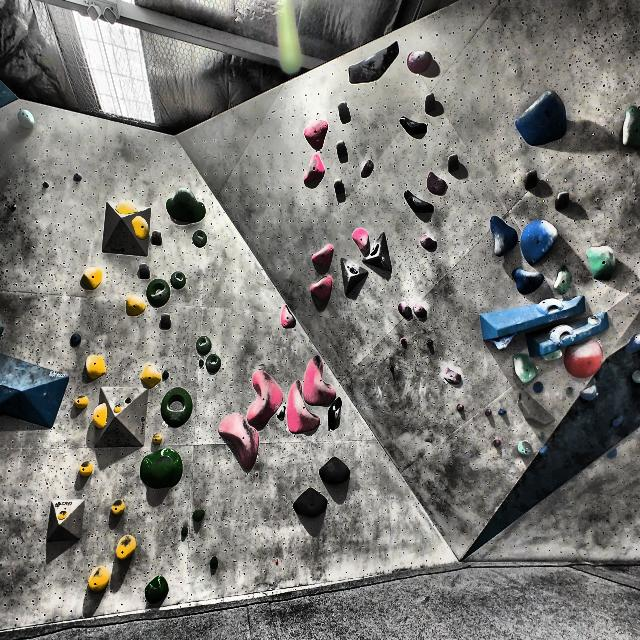Hold: (513, 85, 567, 146), (345, 41, 402, 87), (219, 410, 258, 472), (247, 372, 284, 424), (562, 339, 610, 379), (286, 381, 322, 434), (139, 448, 183, 491), (520, 220, 560, 267), (304, 355, 336, 408), (488, 209, 517, 263), (290, 486, 331, 520), (159, 388, 193, 427), (167, 188, 205, 221), (588, 242, 617, 284), (622, 95, 640, 160), (314, 459, 354, 483), (303, 115, 329, 149), (511, 268, 542, 296), (401, 189, 433, 215), (513, 351, 538, 383), (303, 153, 324, 191), (86, 564, 111, 594), (113, 532, 139, 560), (400, 113, 428, 138), (80, 264, 105, 292), (148, 278, 170, 309), (424, 170, 449, 195), (145, 578, 169, 604), (490, 329, 517, 352), (114, 196, 143, 217), (350, 225, 371, 253), (327, 400, 347, 429), (308, 276, 332, 300), (83, 354, 106, 379), (311, 244, 334, 268), (554, 268, 573, 297), (141, 363, 163, 388), (408, 51, 434, 72), (532, 301, 566, 316), (125, 295, 148, 317), (92, 402, 110, 429), (443, 366, 463, 390), (14, 108, 38, 128), (545, 325, 570, 342), (192, 229, 211, 249), (206, 356, 224, 376), (416, 234, 437, 251), (172, 271, 189, 292), (412, 299, 428, 321), (282, 305, 298, 327), (134, 216, 150, 238), (78, 460, 95, 480), (360, 157, 374, 181), (516, 438, 534, 455), (109, 498, 125, 517), (398, 299, 412, 320), (195, 337, 213, 353), (192, 508, 208, 525), (73, 394, 89, 411), (528, 381, 546, 394), (150, 431, 165, 445), (59, 509, 70, 522), (372, 242, 382, 256), (493, 434, 502, 449), (348, 262, 357, 277), (424, 338, 436, 349), (539, 445, 549, 458), (114, 402, 125, 413), (161, 364, 169, 379), (454, 402, 465, 412), (399, 335, 408, 347), (210, 557, 218, 569), (496, 406, 506, 415), (181, 525, 188, 537), (484, 408, 492, 417)
